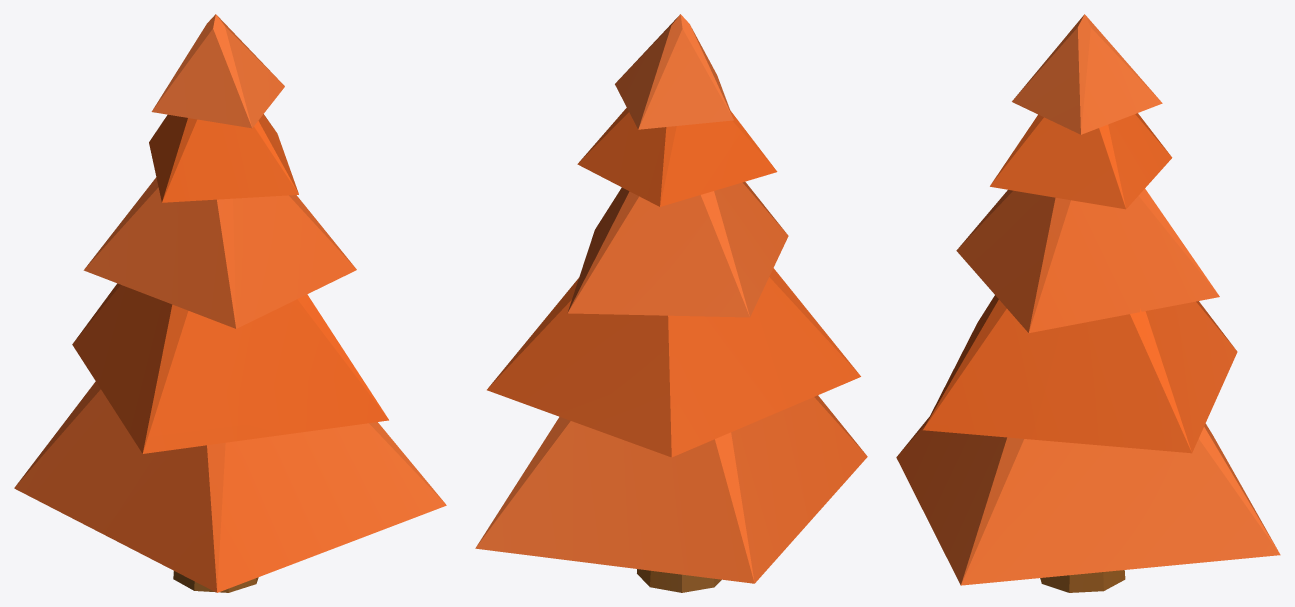
Rendered from tree_4_orange.fbx.
3 renders of one model, left to right at view 1: azimuth 30°, elevation 25°; view 2: azimuth 150°, elevation 25°; view 3: azimuth 270°, elevation 25°, orthographic.
Parts seen in each view (by area): view 1: tree_4_orange; view 2: tree_4_orange; view 3: tree_4_orange.
Part boxes in pixels (box(x1,y1,x2,y2)): tree_4_orange: box(14, 14, 446, 592); tree_4_orange: box(475, 14, 867, 592); tree_4_orange: box(896, 14, 1280, 592).
Bounding box in the file's own units: 358 × 623 × 387.
